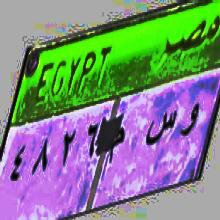2: (61, 128, 76, 170)
4: (9, 140, 25, 190)
6: (84, 121, 100, 165)
8: (30, 138, 50, 180)
meem: (107, 122, 127, 167)
seen: (144, 106, 176, 153)
waw: (178, 96, 200, 145)
